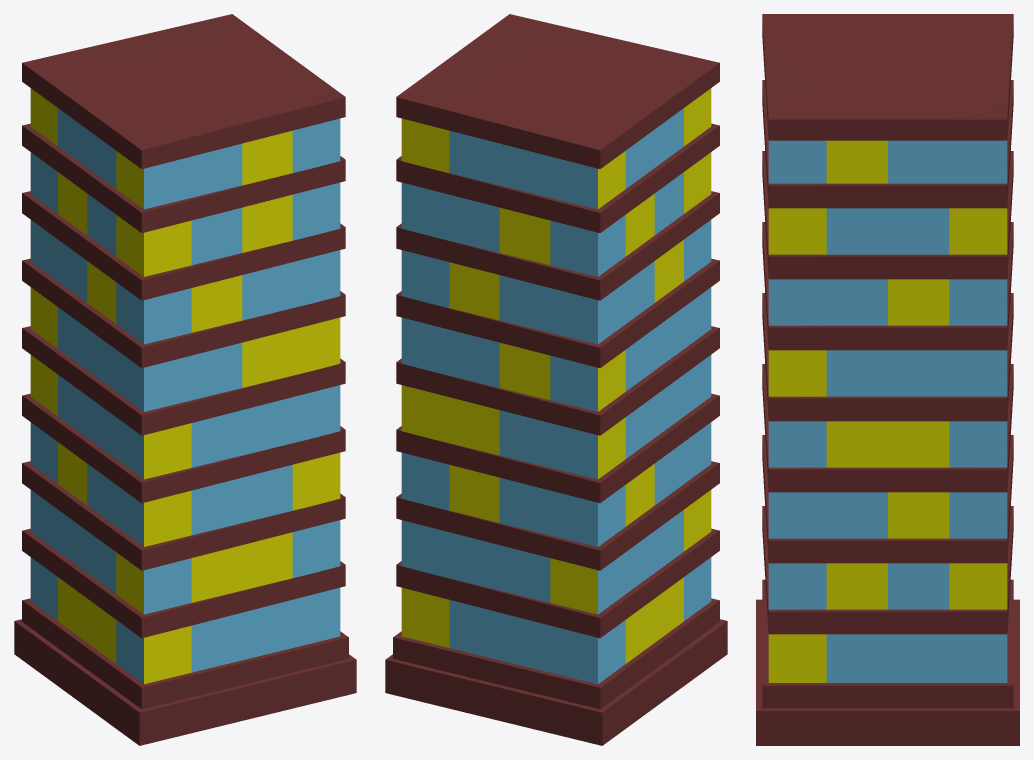
The model's file is Building2.fbx.
3 views of the same model, side by side, from view 1: azimuth 30°, elevation 25°; view 2: azimuth 150°, elevation 25°; view 3: azimuth 270°, elevation 25° (orthographic). The views are drawn at different scales.
Parts seen in each view (by area): view 1: pCube2; view 2: pCube2; view 3: pCube2.
Boxes of the visible parts, x1,y1,x2,y2 form: pCube2: (14,14,356,745); pCube2: (385,14,727,745); pCube2: (756,14,1019,745).
Bounding box in the file's own units: 9.07 × 23.66 × 9.07.
